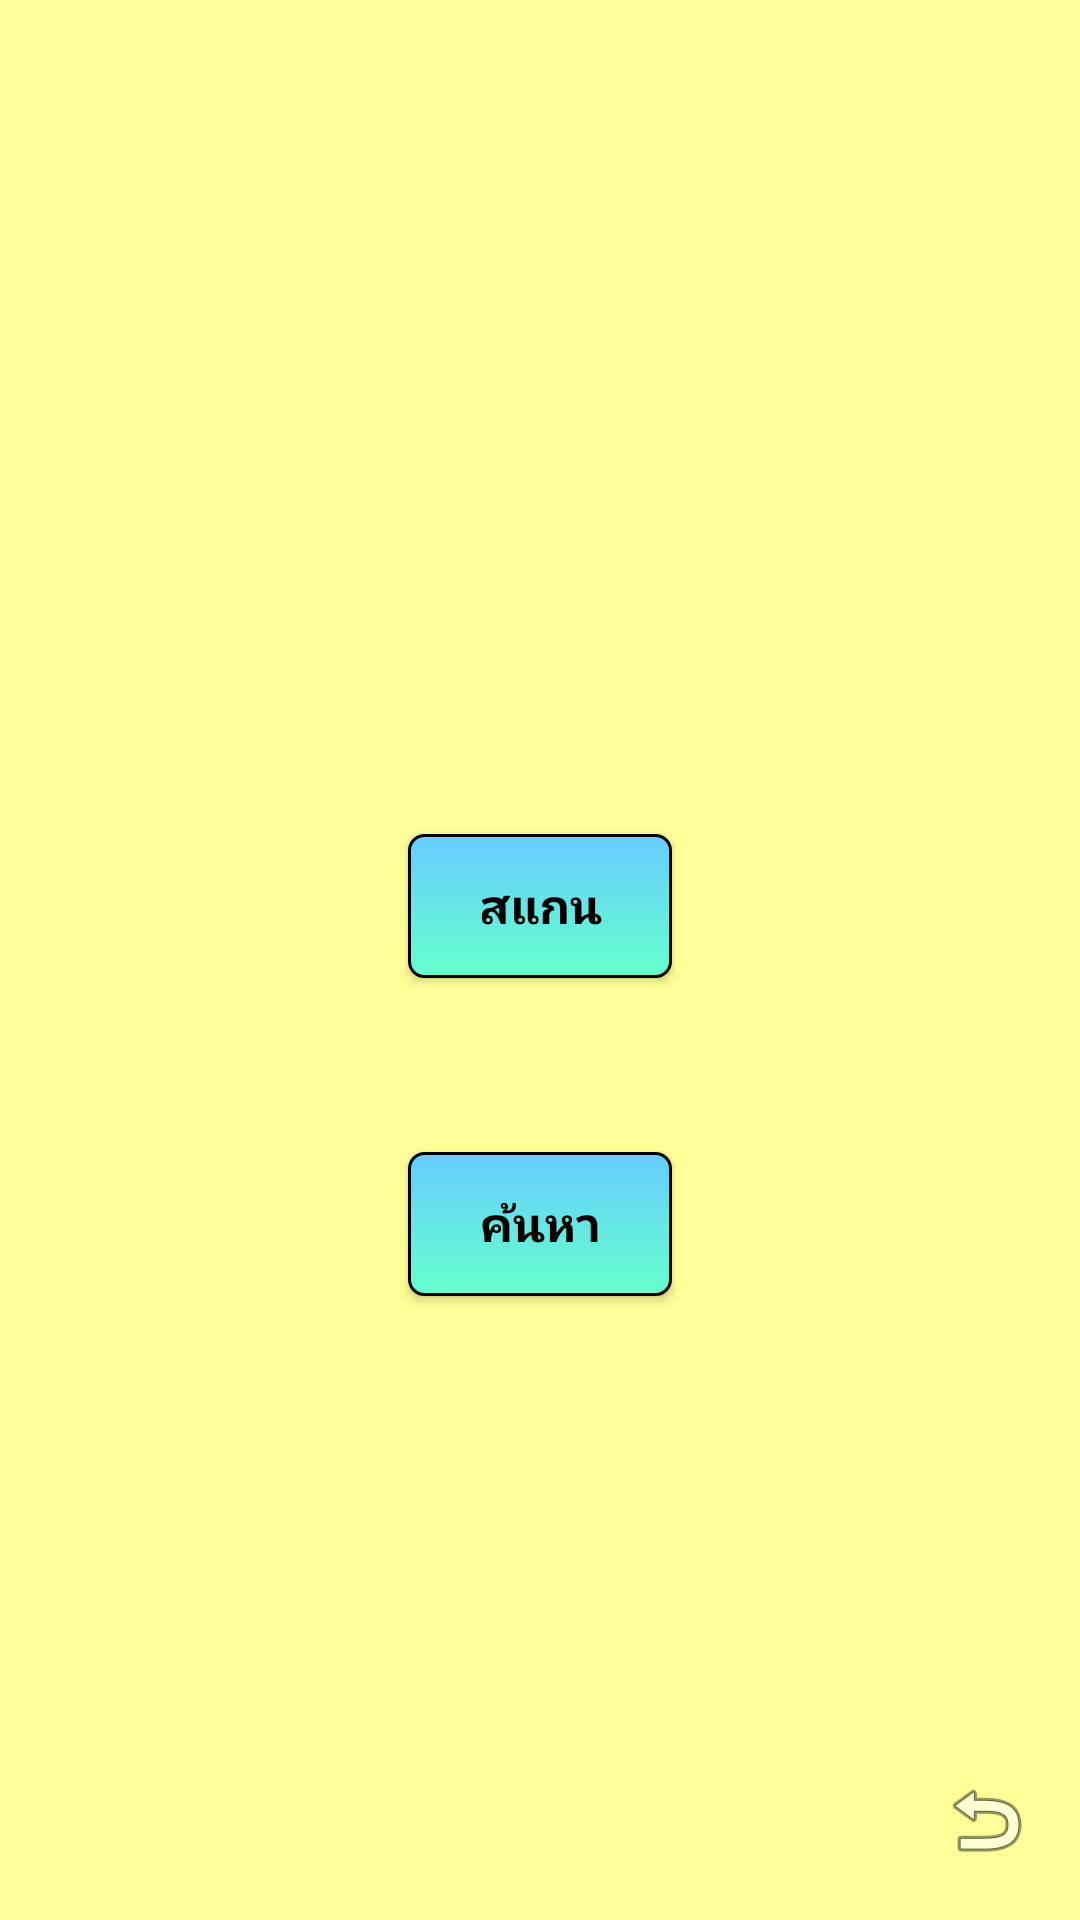

Point at icon controls on the screen. Image size 1080×1920, points as point (x, y).
revert: point (987, 1820)
